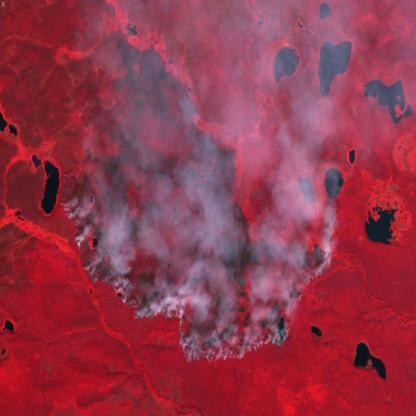fire: (58, 173, 338, 356)
